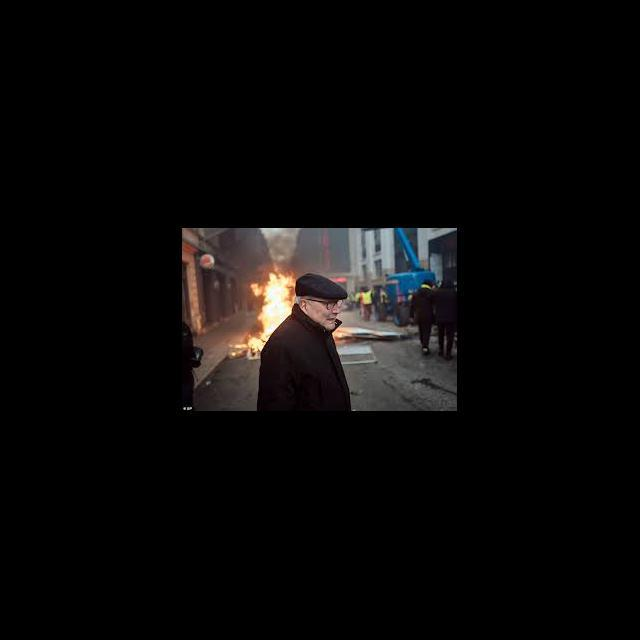Fire: (248, 264, 297, 320)
